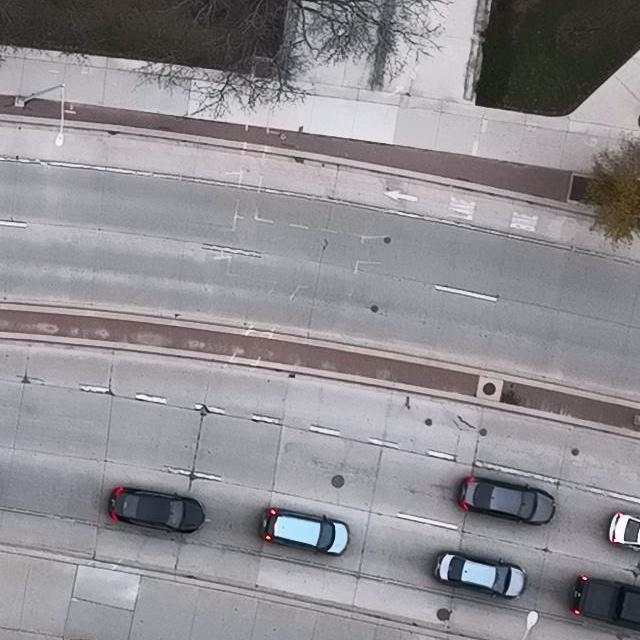car: (457, 475, 555, 525), (108, 487, 205, 534), (260, 507, 351, 556), (433, 551, 525, 598), (568, 575, 640, 630), (608, 511, 640, 553)
